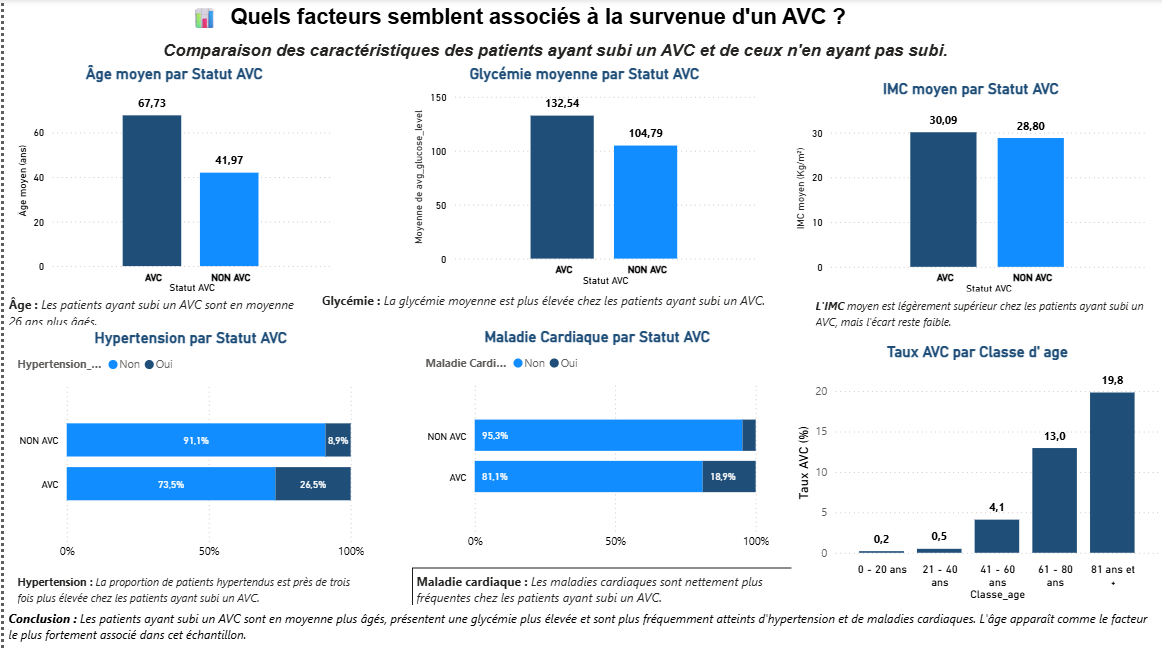

The dashboard page shown, as its layout file describes it:
{"tool":"powerbi","page":{"name":"Facteurs associés à la survenue d'un AVC ","canvas":[1280,720],"ordinal":2},"visuals":[{"type":"textbox","box":[245,0,746.9,41.8],"z":0},{"type":"textbox","box":[171.3,41.8,896.3,39.8],"z":1000},{"type":"clusteredColumnChart","title":"Âge moyen par Statut AVC","fields":{"Category":["Patients.Statut AVC"],"Y":["Avg(Patients.age)"]},"box":[9.9,72.9,356.1,256.8],"z":2000},{"type":"clusteredColumnChart","title":"Glycémie moyenne par Statut AVC","fields":{"Category":["Patients.Statut AVC"],"Y":["Avg(Patients.avg_glucose_level)"]},"box":[447.2,72.9,387.6,248.5],"z":3000},{"type":"clusteredColumnChart","title":"IMC moyen par Statut AVC","fields":{"Category":["Patients.Statut AVC"],"Y":["Avg(Patients.bmi)"]},"box":[870.4,89.6,396.4,241],"z":4000},{"type":"hundredPercentStackedBarChart","title":"Hypertension par Statut AVC ","fields":{"Category":["Patients.Statut AVC"],"Series":["Patients.Hypertension_cat"],"Y":["CountNonNull(Patients.Hypertension_cat)"]},"box":[9.9,364.4,392.6,263.4],"z":5000},{"type":"hundredPercentStackedBarChart","title":"Maladie Cardiaque par Statut AVC ","fields":{"Category":["Patients.Statut AVC"],"Series":["Patients.Hypertension_cat"],"Y":["CountNonNull(Patients.Hypertension_cat)"]},"box":[460.5,362.8,389.3,253.4],"z":6000},{"type":"textbox","box":[0,323,366.1,41.4],"z":7000},{"type":"textbox","box":[346.2,318,523.4,41.4],"z":8000},{"type":"textbox","box":[9.9,627.8,419.1,53],"z":9000},{"type":"textbox","box":[450.6,627.8,440.6,53],"z":10000},{"type":"columnChart","title":"Taux AVC par Classe d'' age","fields":{"Category":["table_age.Classe_age"],"Y":["Sum(table_age.Taux_AVC)"]},"box":[869.7,379.3,410.8,289.9],"z":11000},{"type":"textbox","box":[891.2,323,387.6,59.6],"z":12000},{"type":"textbox","box":[0,669.2,1280.5,51.4],"z":13000},{"type":"textbox","box":[190.5,0,59.6,41.4],"z":14000}]}

Visuals, with their boxes in screenshot pixels (x1, y1, x2, y2), scaled from the page's 1280x720 canvas onto the 1162x651 screenshot:
textbox: BBox(222, 0, 900, 38)
textbox: BBox(156, 38, 969, 74)
"Âge moyen par Statut AVC" clusteredColumnChart: BBox(9, 66, 332, 298)
"Glycémie moyenne par Statut AVC" clusteredColumnChart: BBox(406, 66, 758, 291)
"IMC moyen par Statut AVC" clusteredColumnChart: BBox(790, 81, 1150, 299)
"Hypertension par Statut AVC " hundredPercentStackedBarChart: BBox(9, 329, 365, 568)
"Maladie Cardiaque par Statut AVC " hundredPercentStackedBarChart: BBox(418, 328, 771, 557)
textbox: BBox(0, 292, 332, 329)
textbox: BBox(314, 288, 789, 325)
textbox: BBox(9, 568, 389, 616)
textbox: BBox(409, 568, 809, 616)
"Taux AVC par Classe d'' age" columnChart: BBox(790, 343, 1161, 605)
textbox: BBox(809, 292, 1161, 346)
textbox: BBox(0, 605, 1161, 650)
textbox: BBox(173, 0, 227, 37)
